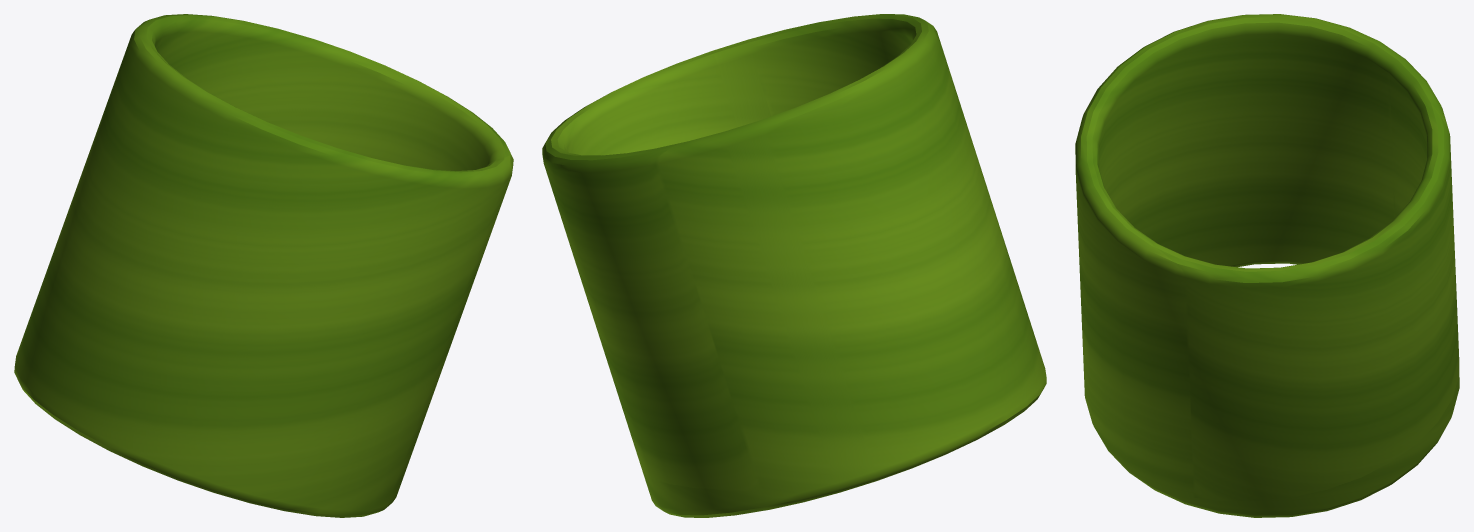
Rendered from onion.glb.
3 renders of one model, left to right at view 1: azimuth 30°, elevation 25°; view 2: azimuth 150°, elevation 25°; view 3: azimuth 270°, elevation 25°, orthographic. The views are drawn at different scales.
Visible parts, largest first — view 1: onion; view 2: onion; view 3: onion.
Boxes of the visible parts, box(x1,y1,x2,y2) form: onion: box(14, 14, 513, 517); onion: box(542, 14, 1046, 517); onion: box(1075, 14, 1459, 517).
Size of the model in its own units: 0.00997 by 0.0097 by 0.00816.
1 material, 1 textured.
